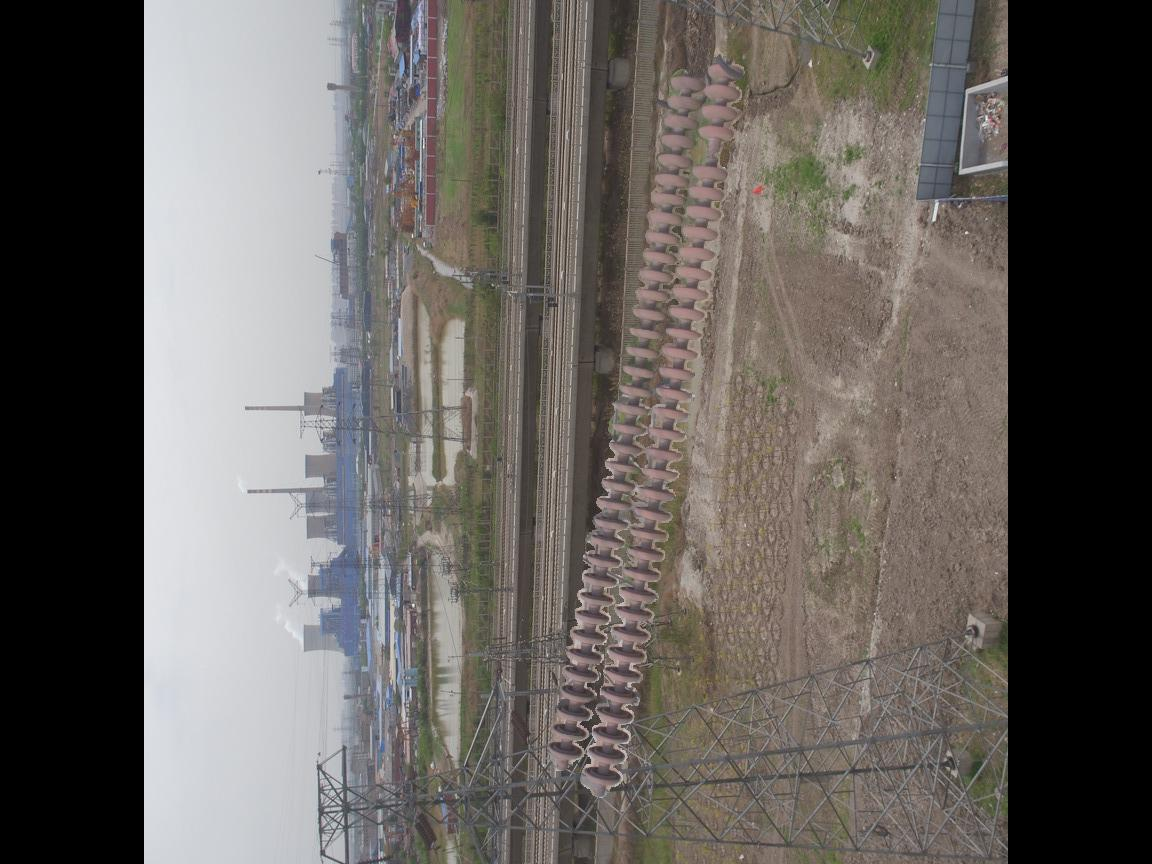insulator: (544, 58, 749, 803)
insulator_stringdrop: (689, 122, 737, 184)
